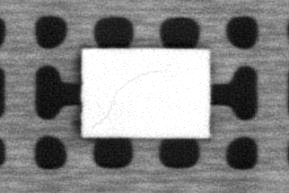DIE_CRACK: (87, 68, 164, 132)
